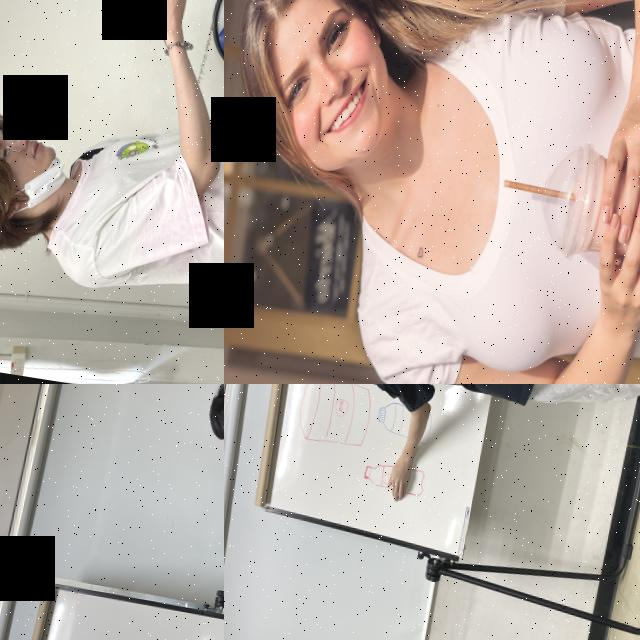cup: (533, 136, 640, 277)
